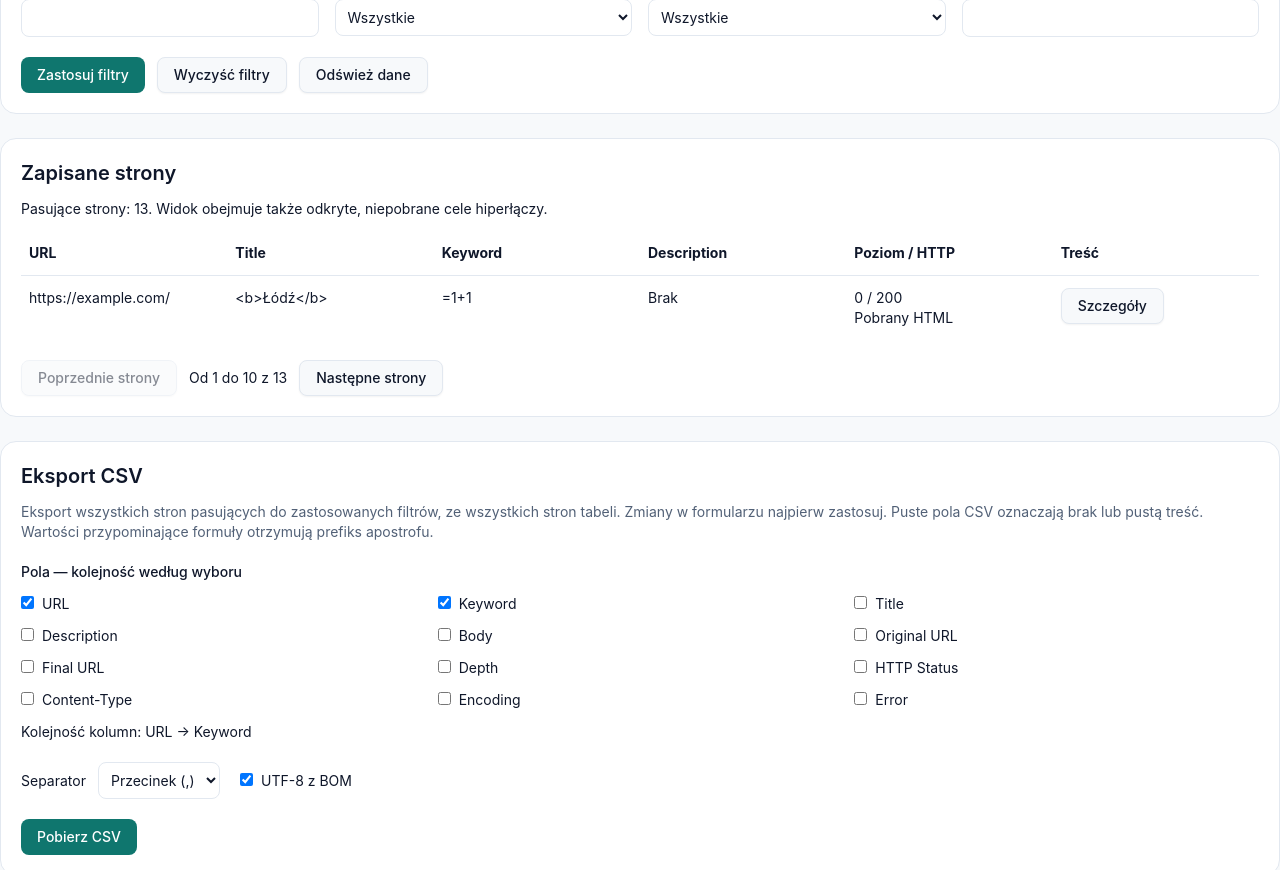
Scenario: data explorer › download errors stay visible and can be retried
(page scrolled)
expect the text "<b>Łódź</b>" is shown: met, box top-left (235, 289), bottom-right (328, 306)
Click the button "Pobierz CSV" at (79, 837), box top-left (21, 819), bottom-right (137, 855)
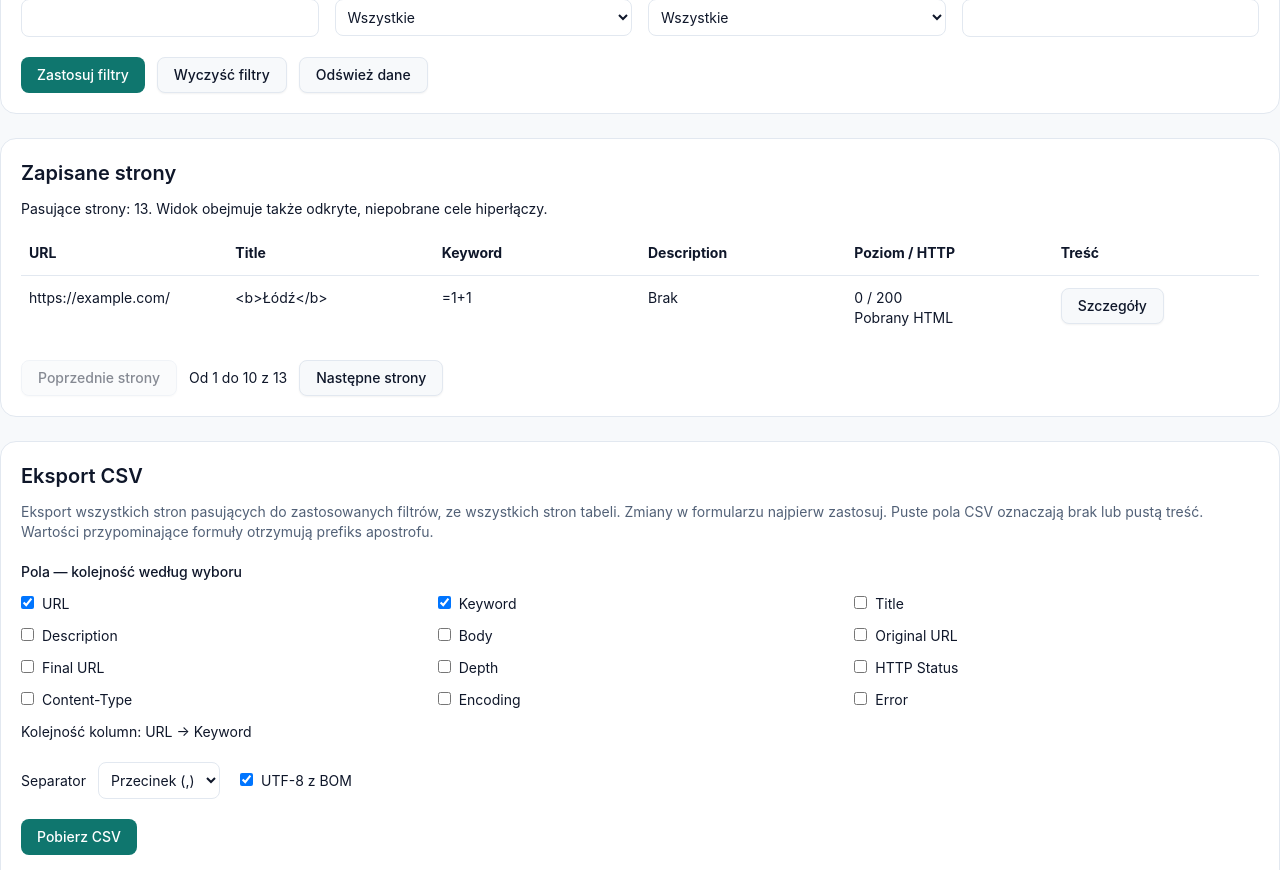
Click the button "Pobierz CSV" at (79, 837), box top-left (21, 819), bottom-right (137, 855)
(page scrolled)
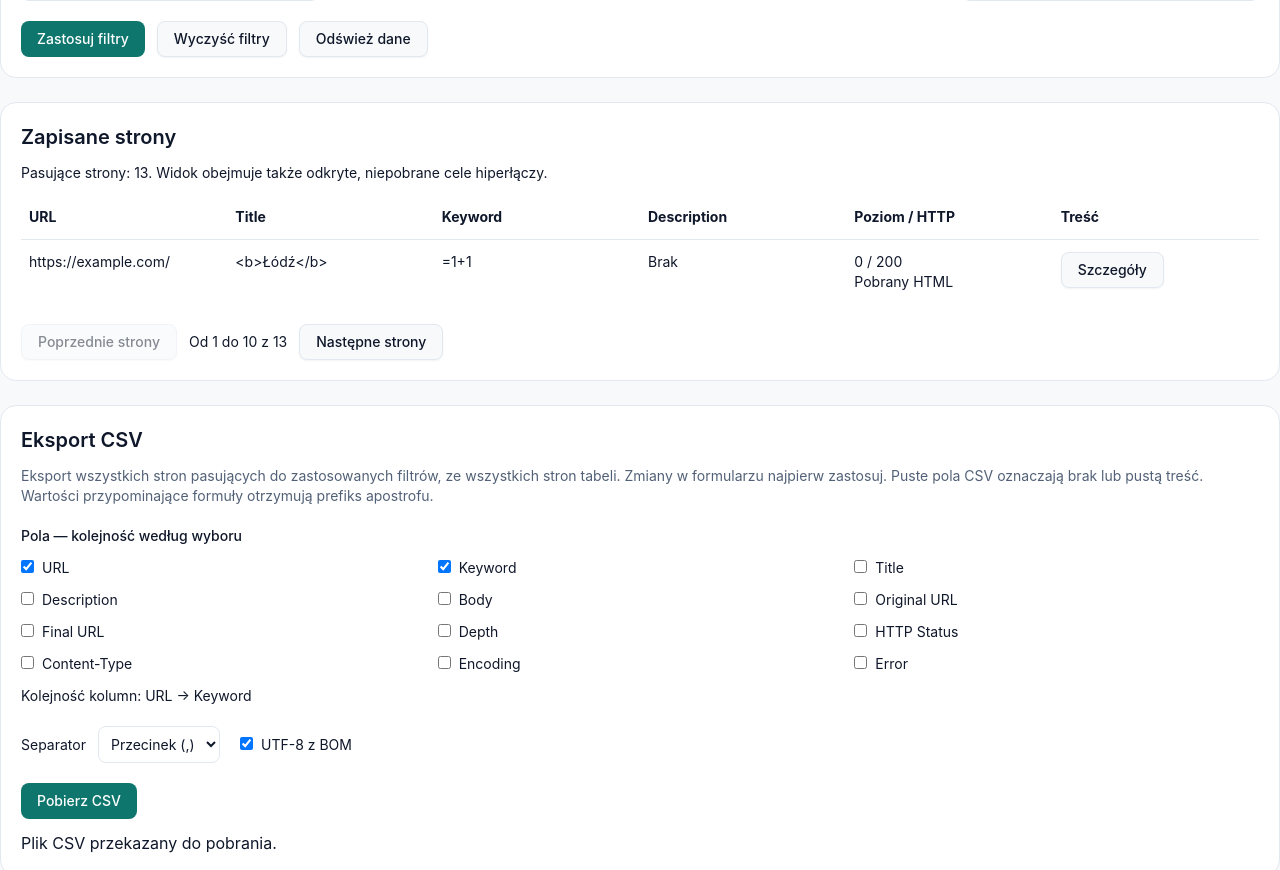
expect the text "Plik CSV przekazany do pobrania." is shown: met, box top-left (21, 833), bottom-right (277, 853)
